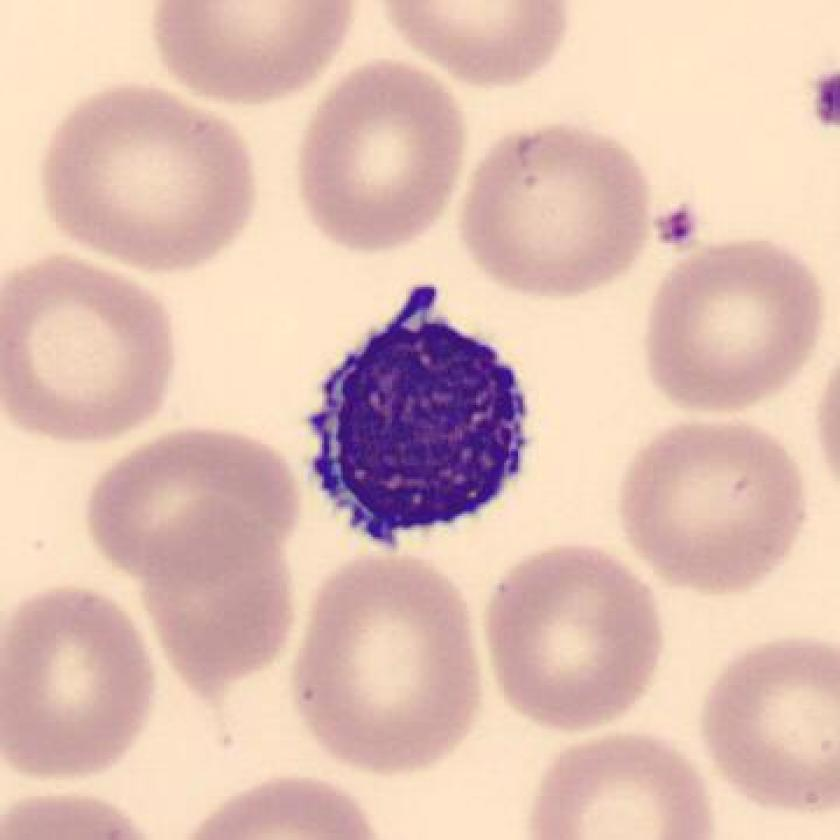lymphocyte: (290, 274, 547, 566)
